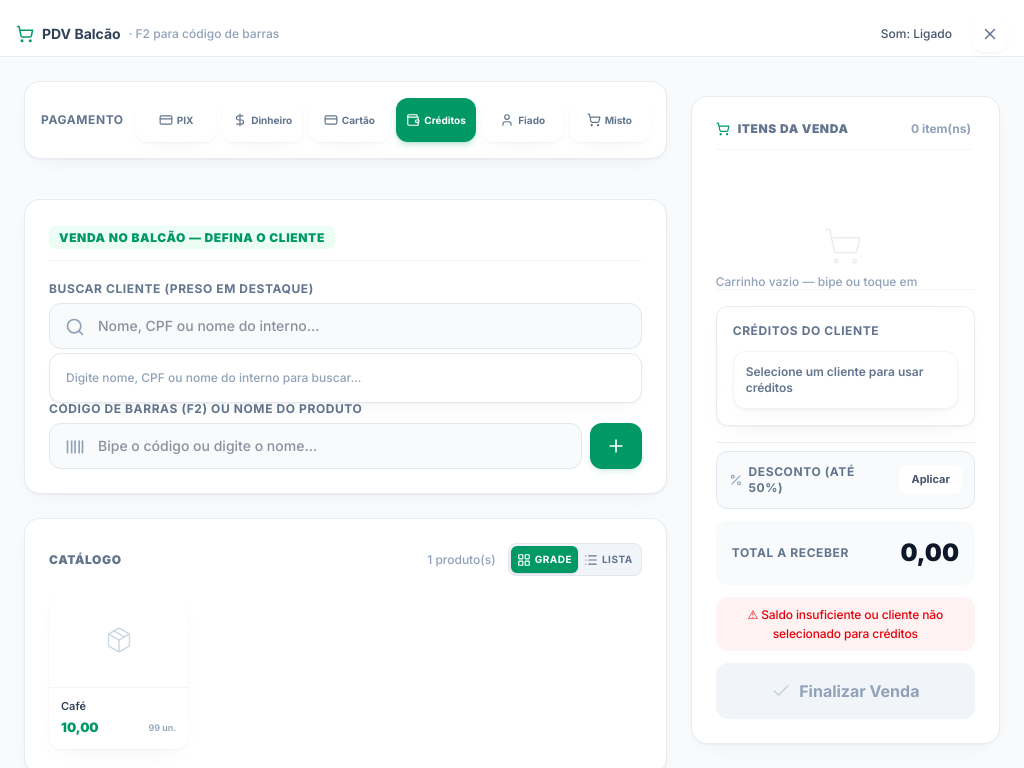
Scenario: PDV — a tela de pós-venda aparece depois da venda › mostra a confirmação com o autoPrint DESLIGADO (não abre janela de impressão)
In the field with placeholder "Bipe o código ou digite o nome...": (315, 446) [49, 423, 582, 469], type "7891000100103"
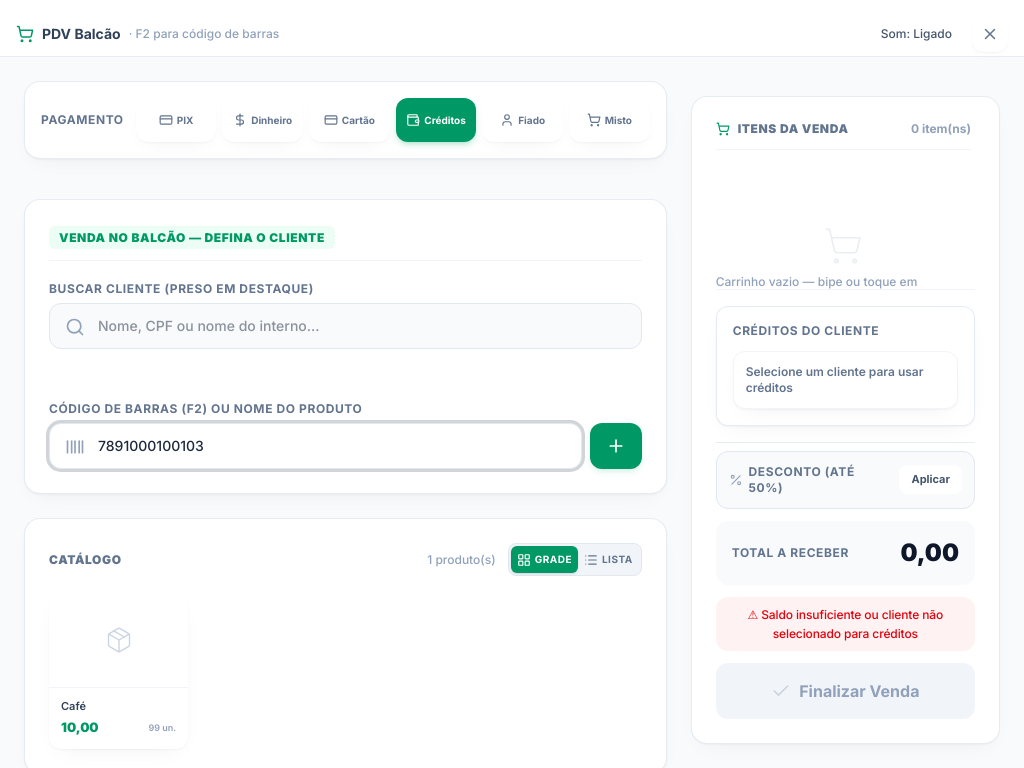
Click the button named "adicionar produto": click(616, 446) [590, 423, 642, 469]
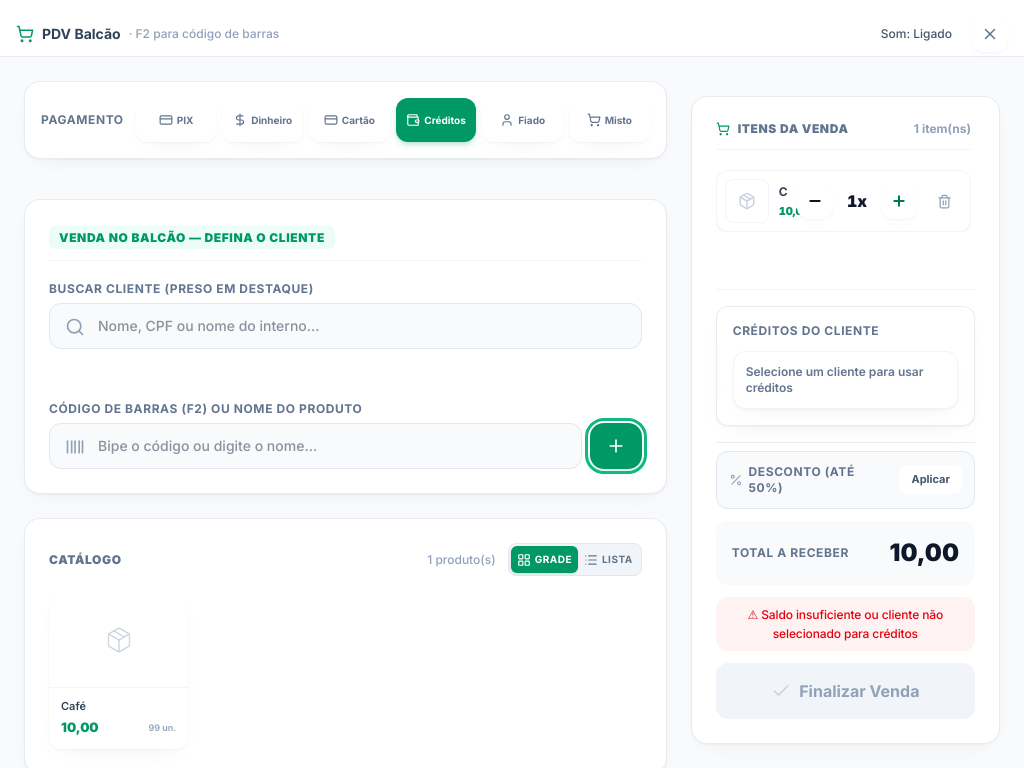
Click the button titled "Dinheiro": click(263, 120) [222, 98, 303, 142]
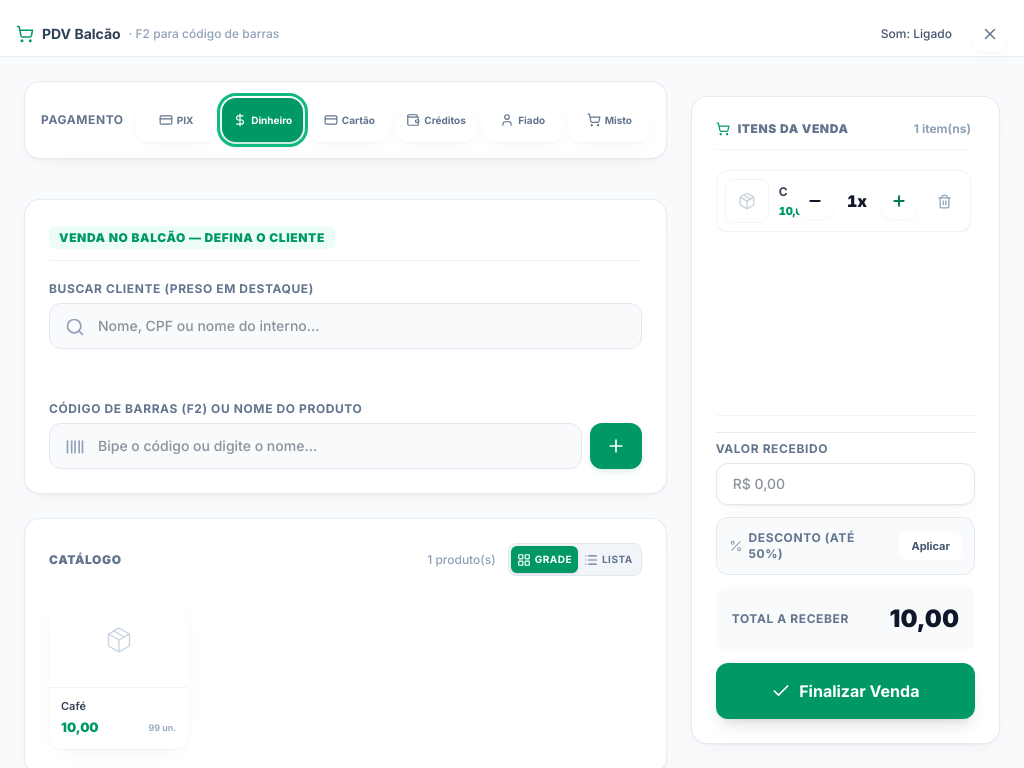
In the field labelled "Valor Recebido": (845, 484) [716, 463, 975, 505], type "14"
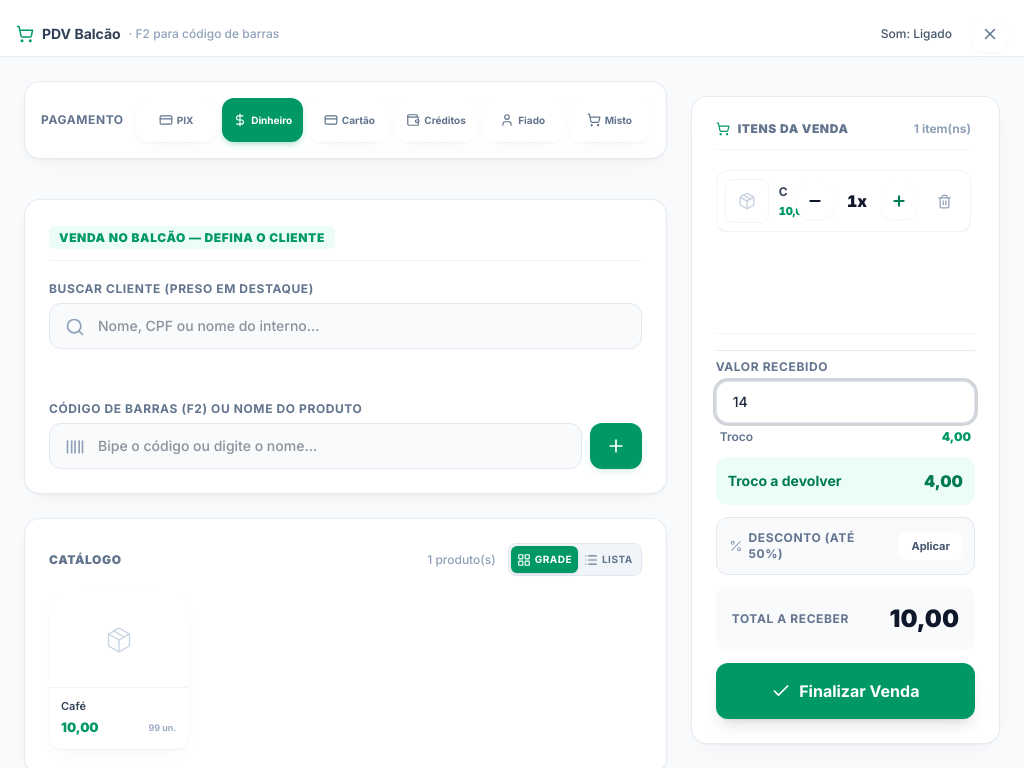
expect the button "Finalizar Venda" is enabled: met
Click the button "Finalizar Venda": click(845, 691) [716, 663, 975, 719]
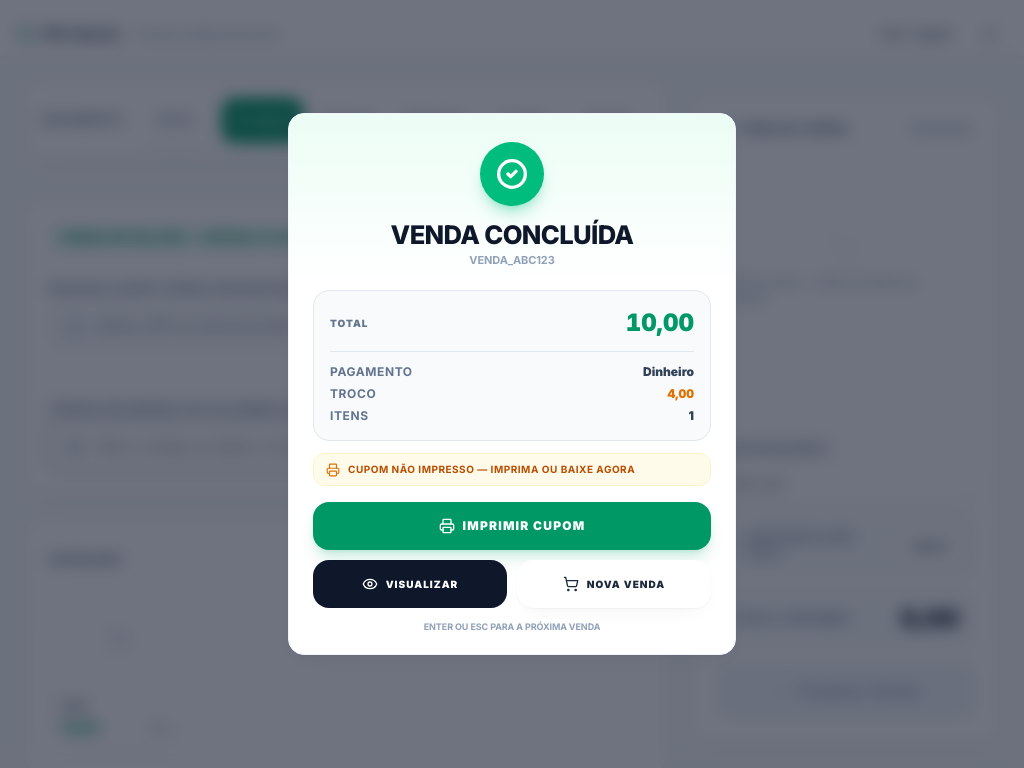
expect the dialog "Venda concluída" is shown: met, box [288, 113, 736, 655]
expect the text "Cupom não impresso — imprima ou baixe agora" is shown: met, box [348, 462, 635, 477]
expect the button "Imprimir cupom" is shown: met, box [313, 502, 711, 550]
